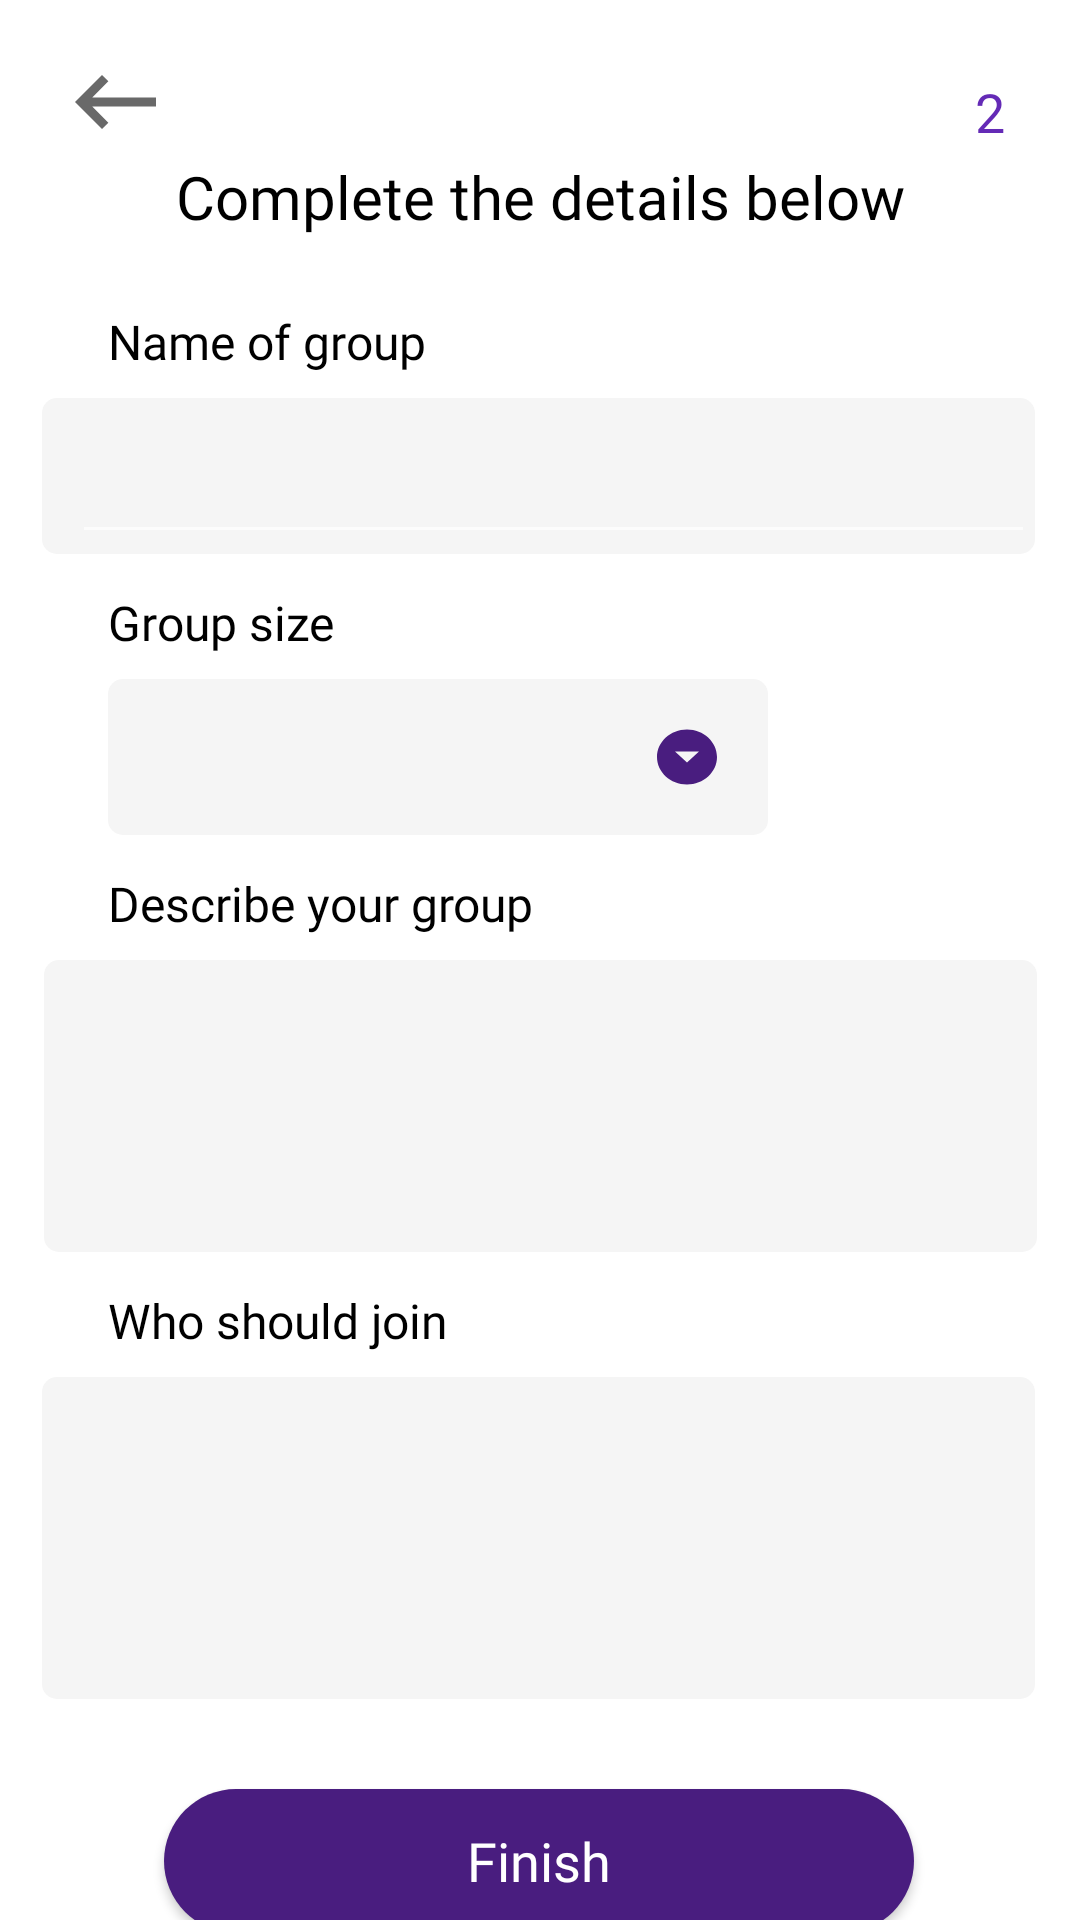

Where icons sit on this 1080px x 1920px app screen, as (x1=x1, y1=y1, x2=x2, y2=y2):
back: (x1=75, y1=75, x2=156, y2=129)
